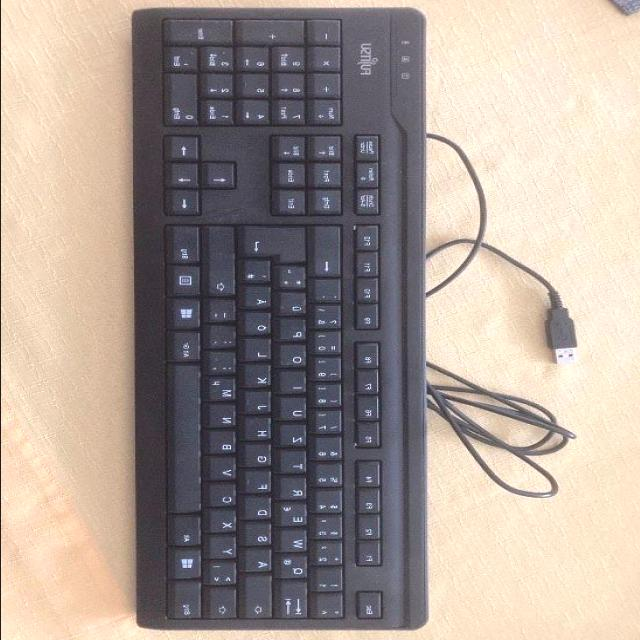0: (315, 334, 344, 358)
1: (313, 570, 345, 594)
2: (314, 544, 346, 568)
3: (314, 518, 346, 542)
4: (315, 492, 345, 516)
5: (315, 466, 345, 490)
6: (313, 439, 345, 463)
7: (313, 412, 345, 436)
8: (313, 386, 343, 410)
9: (315, 360, 344, 384)
a: (243, 551, 275, 575)
accent: (313, 281, 343, 305)
ae: (242, 288, 274, 312)
alt-left: (171, 518, 203, 549)
altgr-right: (170, 334, 204, 364)
b: (208, 433, 238, 457)
c: (209, 486, 238, 510)
caret: (314, 597, 346, 622)
comma: (208, 354, 238, 378)
d: (242, 499, 274, 521)
del: (315, 227, 344, 279)
e: (278, 505, 310, 529)
enter: (240, 228, 311, 266)
f: (243, 472, 273, 496)
g: (243, 446, 273, 470)
h: (243, 418, 273, 443)
hash: (244, 262, 273, 286)
i: (278, 373, 308, 397)
j: (243, 392, 273, 416)
k: (242, 366, 274, 390)
keyboard: (132, 8, 439, 636)
l: (243, 341, 273, 365)
less: (207, 565, 239, 588)
m: (207, 380, 239, 404)
minus: (209, 302, 238, 326)
n: (208, 406, 238, 430)
o: (278, 347, 308, 371)
oe: (243, 314, 273, 338)
p: (279, 321, 308, 343)
plus: (277, 268, 309, 292)
point: (211, 328, 240, 352)
q: (277, 557, 309, 581)
r: (278, 479, 310, 503)
s: (242, 524, 274, 548)
shift-left: (206, 591, 238, 622)
shift-lock: (242, 577, 274, 621)
shift-right: (209, 228, 238, 298)
space: (171, 367, 205, 516)
ss: (315, 308, 344, 332)
strg-left: (170, 583, 204, 623)
strg-right: (168, 226, 202, 267)
t: (280, 453, 310, 477)
tab: (279, 584, 311, 622)
u: (277, 399, 309, 423)
ue: (278, 295, 310, 319)
v: (209, 459, 238, 483)
w: (281, 532, 310, 554)
x: (209, 513, 238, 535)
y: (207, 538, 239, 562)
z: (279, 426, 308, 450)
